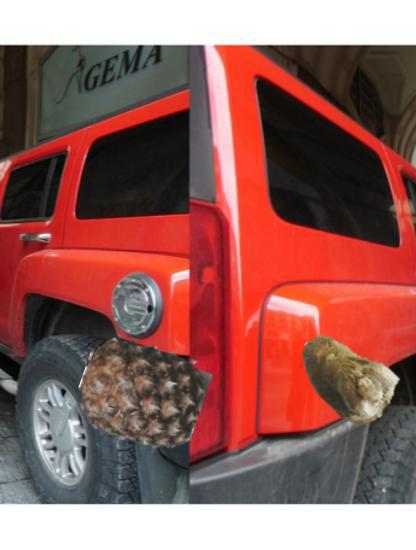Ginger: (295, 323, 400, 428)
Pineapple: (80, 332, 203, 455)
